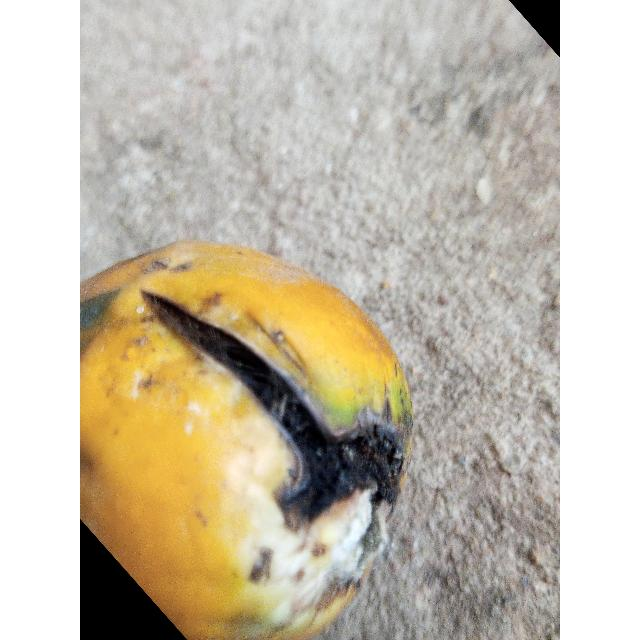damaged: (80, 241, 412, 640)
